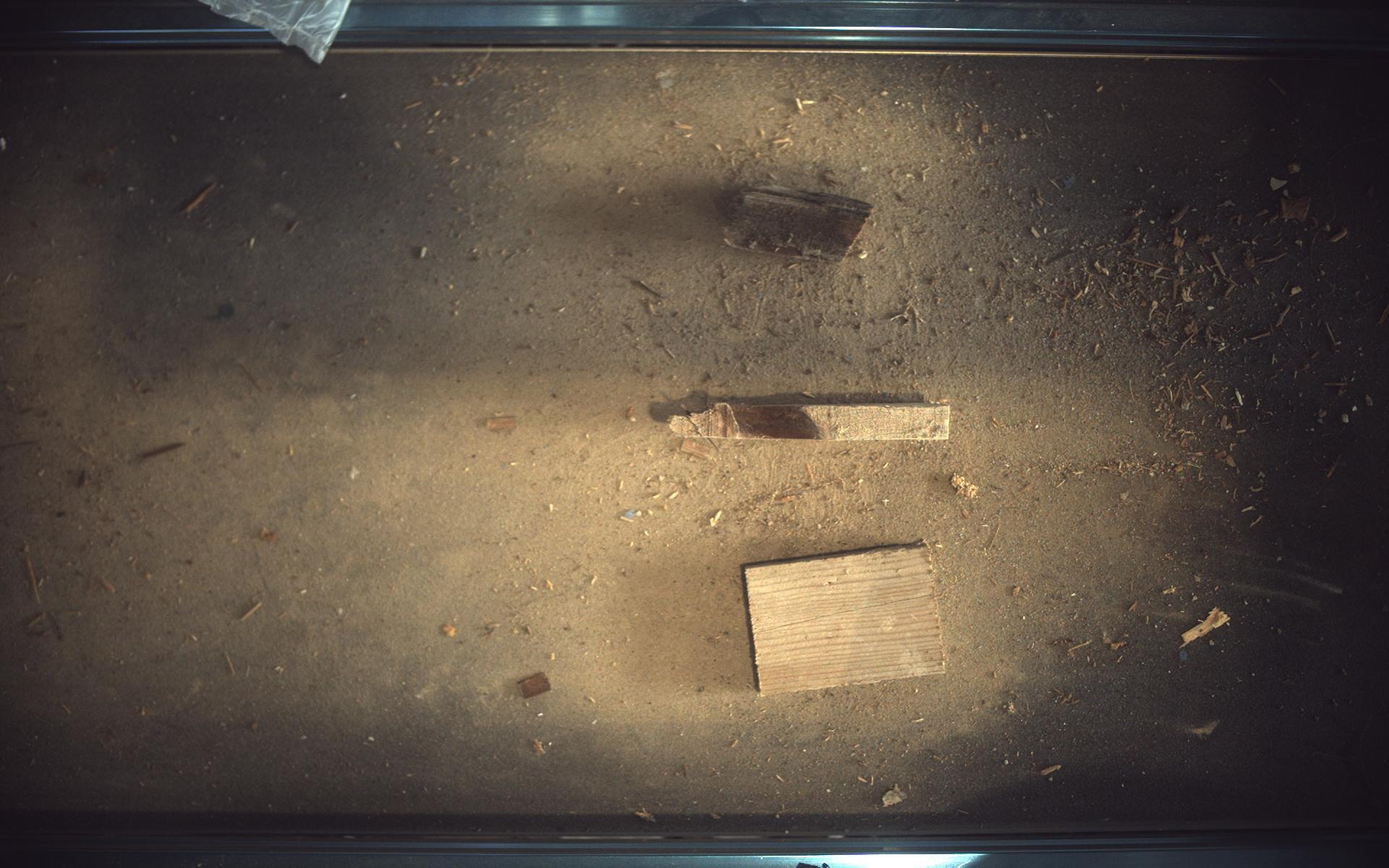wood: (744, 542, 948, 697), (669, 401, 953, 441), (725, 185, 875, 260)
